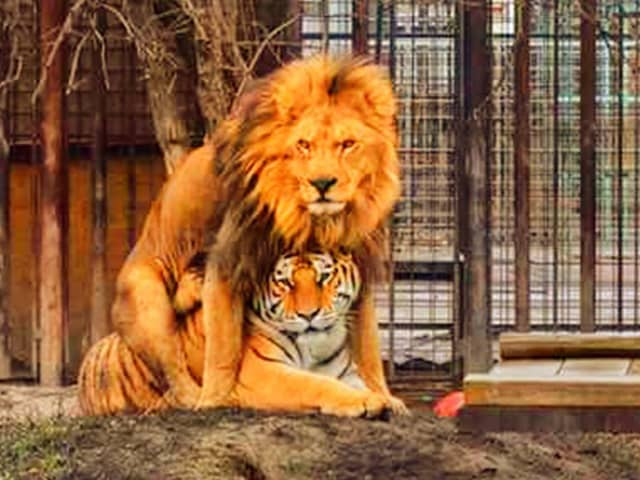lion: (110, 53, 400, 427)
tiger: (73, 242, 386, 418)
